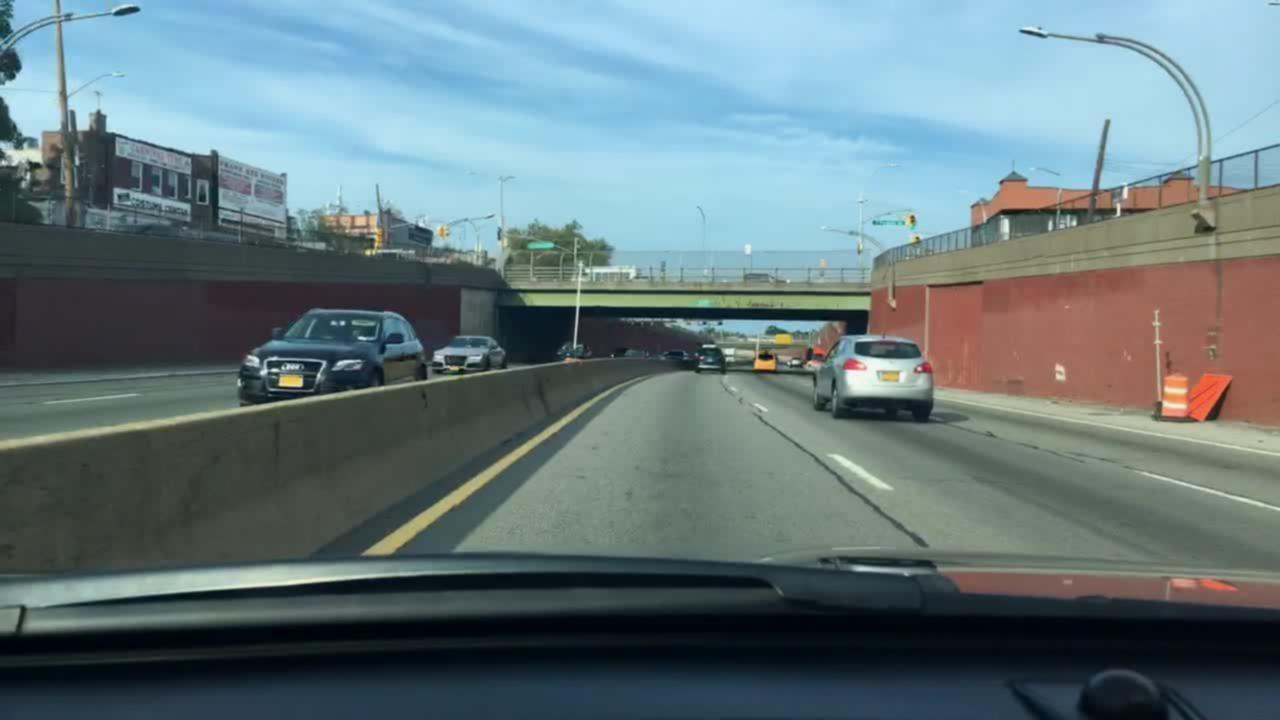Audi: (281, 362, 304, 373)
